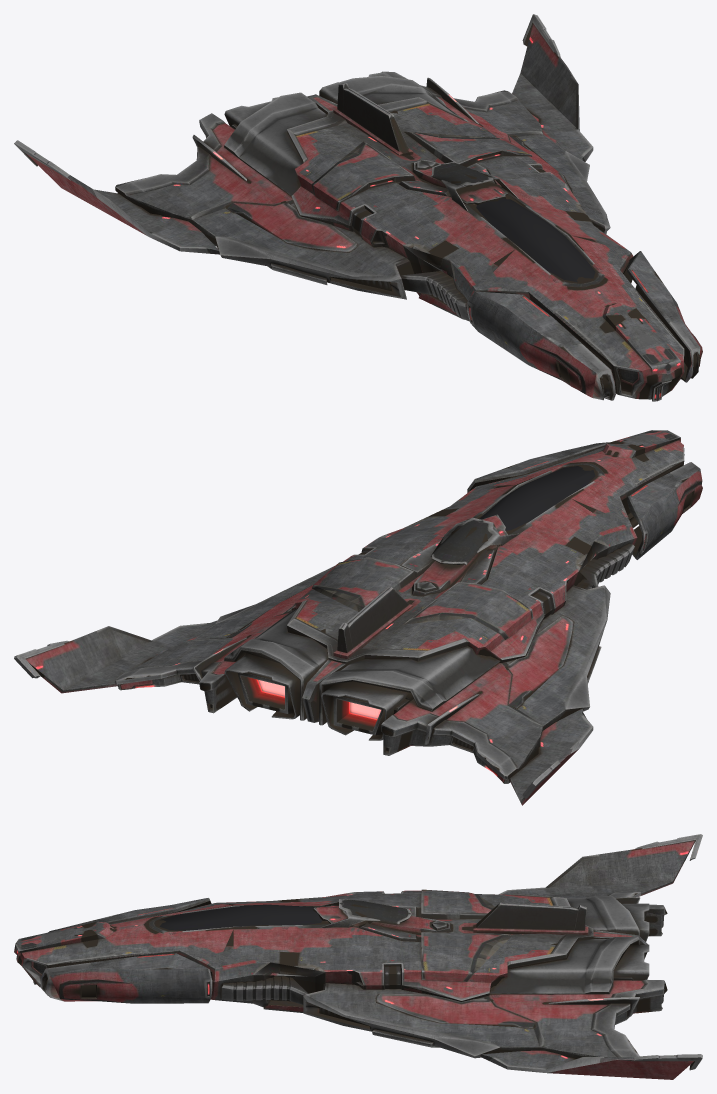
Rendered from cruiser-0-2.glb.
3 views of the same model, one above another, from view 1: azimuth 30°, elevation 25°; view 2: azimuth 150°, elevation 25°; view 3: azimuth 270°, elevation 25° (orthographic). The views are drawn at different scales.
Parts seen in each view (by area): view 1: cruiser-0-2_0, cruiser-0-2_1; view 2: cruiser-0-2_0, cruiser-0-2_1; view 3: cruiser-0-2_0, cruiser-0-2_1.
Part boxes in pixels (x1,y1,x2,y2): cruiser-0-2_0: (14, 14, 702, 400); cruiser-0-2_1: (286, 94, 684, 401); cruiser-0-2_0: (14, 442, 702, 805); cruiser-0-2_1: (286, 430, 684, 722); cruiser-0-2_0: (40, 834, 702, 1079); cruiser-0-2_1: (14, 889, 647, 1012).
Bounding box in the file's own units: 0.7664 × 0.1458 × 1.
Materials: 2 (2 with a texture image).
